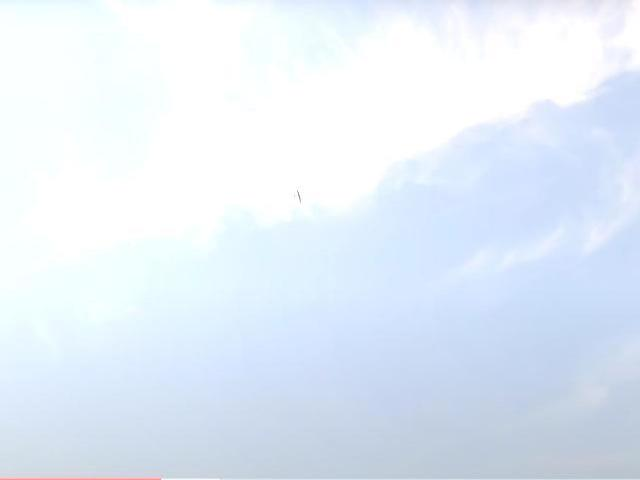iha: (290, 189, 304, 206)
